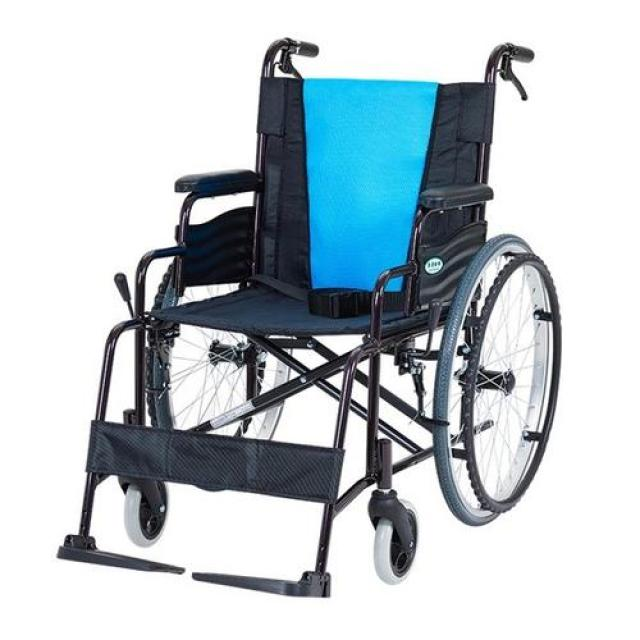wheelchairs: (41, 18, 589, 622)
